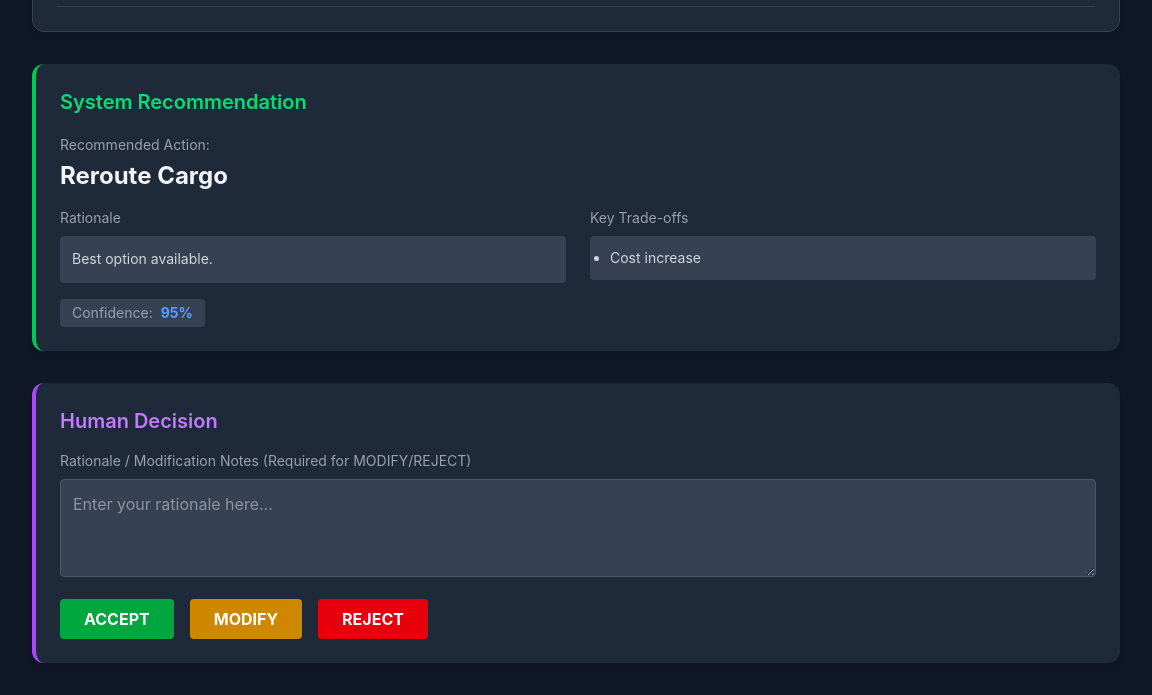
Test: DecisionWorkspace Page › handles decision workflow
(page scrolled)
Expected: the heading "Human Decision" is shown, [60, 409, 218, 433]
Note: Click Accept
Click the button "ACCEPT". click: (117, 619)
box: [60, 599, 174, 639]
(page scrolled)
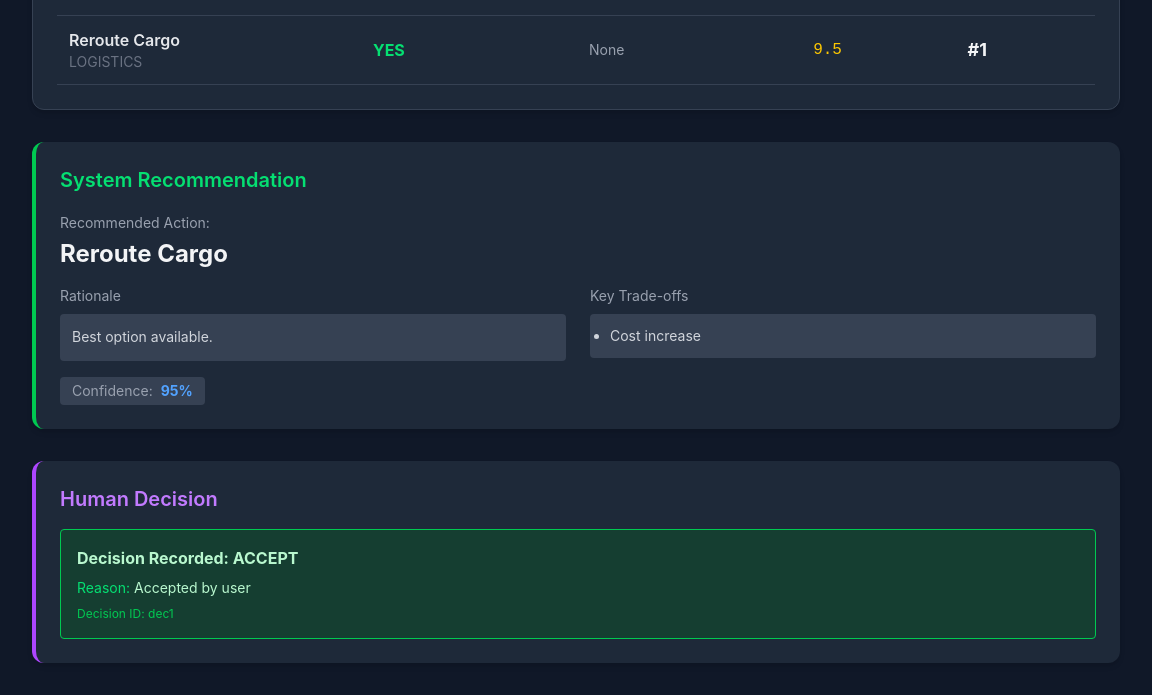
Expected: the text "Decision Recorded: ACCEPT" is shown, [77, 548, 298, 568]
